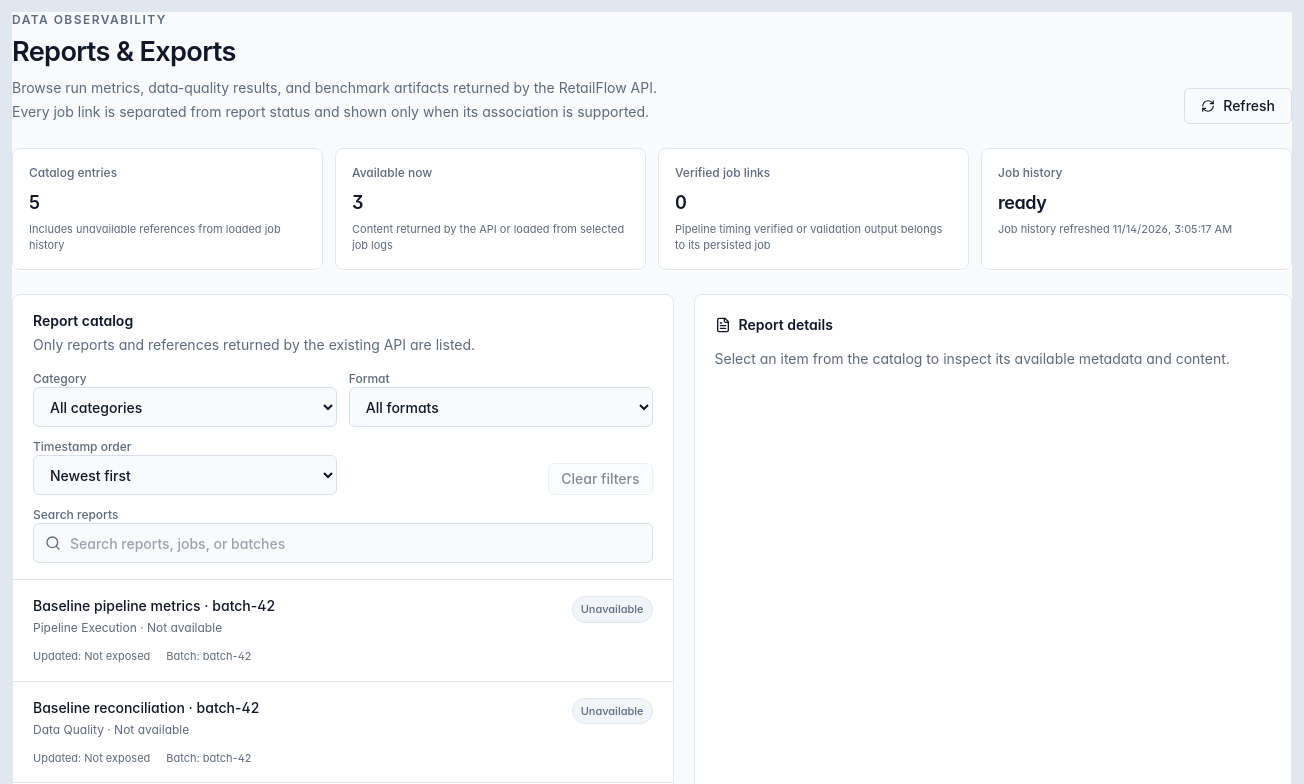
Test: ReportsPage › shows a missing batch report as unavailable without a job link
Click the button "Baseline pipeline metrics · batch-42". click: {"x": 154, "y": 606}
box: [13,580,672,680]
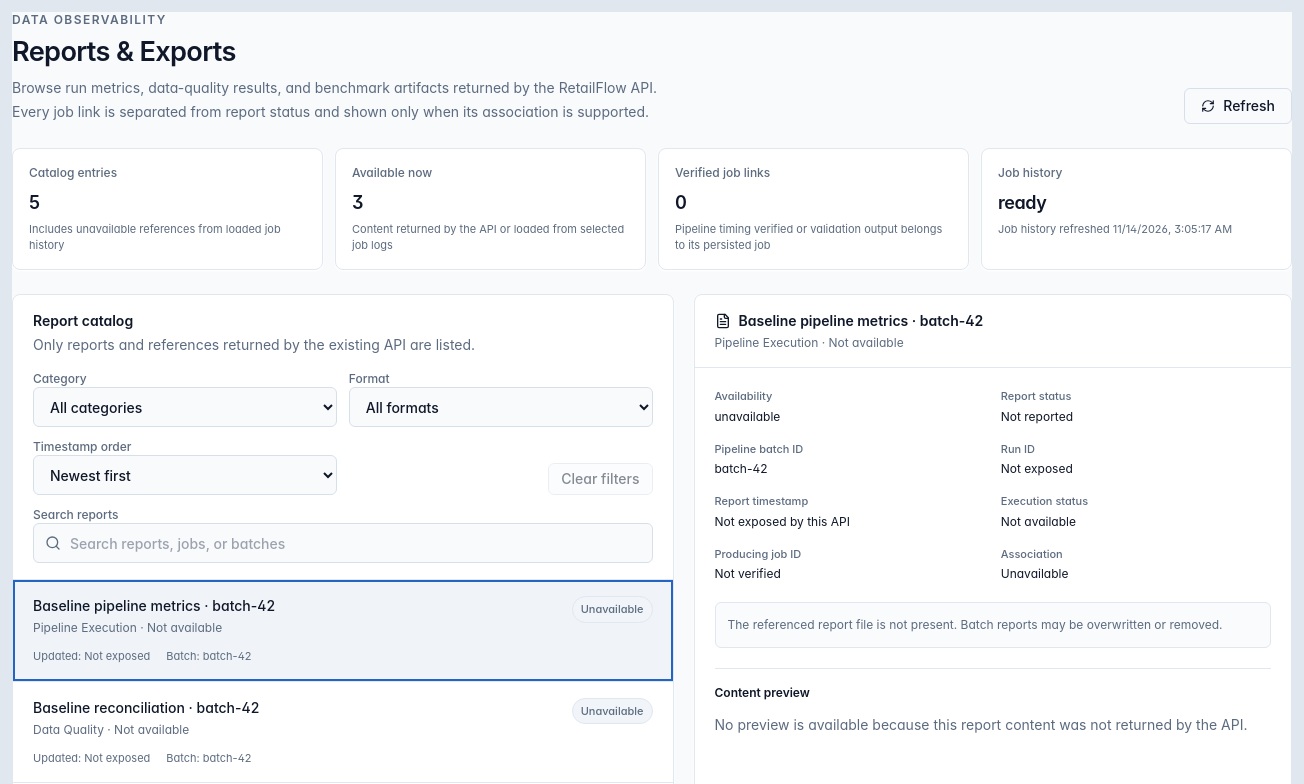
Check: the text "The referenced report file is not present. Batch reports may be overwritten or removed." is shown, box [728,617,1223,632]
